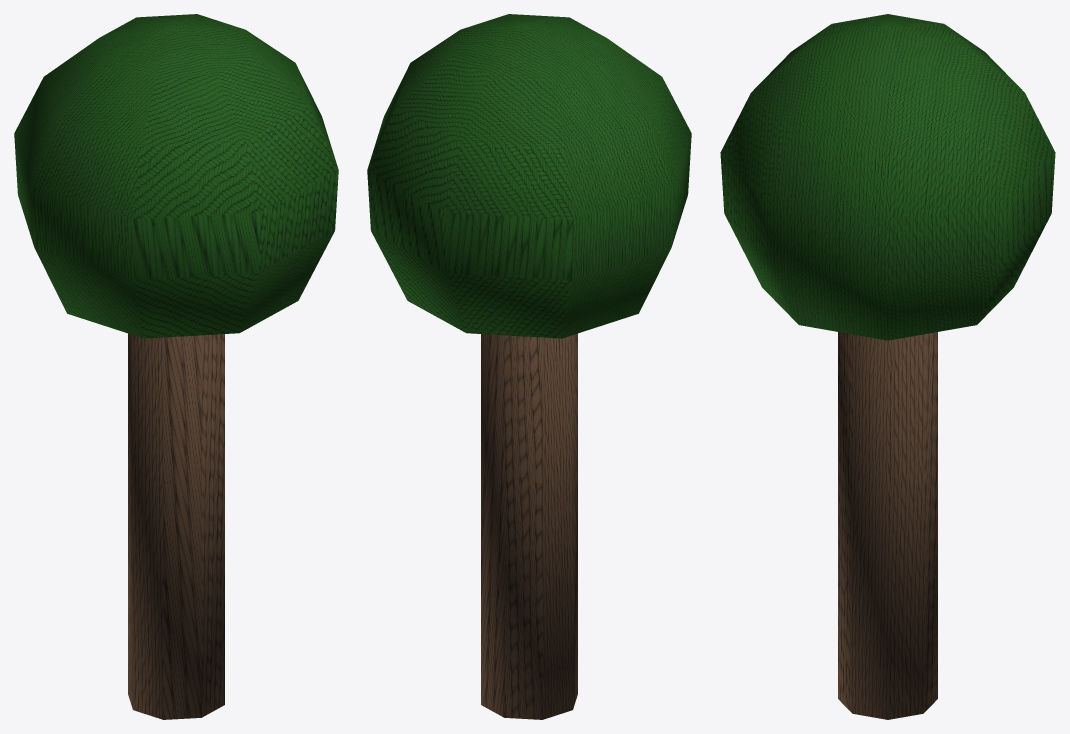
Rendered from Tree.fbx.
3 renders of one model, left to right at view 1: azimuth 30°, elevation 25°; view 2: azimuth 150°, elevation 25°; view 3: azimuth 270°, elevation 25°, orthographic.
Visible parts, largest first — view 1: Tree1; view 2: Tree1; view 3: Tree1.
Boxes of the visible parts, x1,y1,x2,y2 form: Tree1: [14, 14, 338, 719]; Tree1: [367, 14, 691, 719]; Tree1: [720, 14, 1055, 719].
Size of the model in its own units: 474 by 1048 by 474.
Materials: 2 (2 with a texture image).
